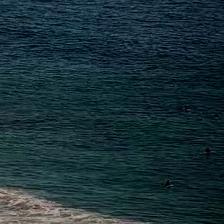surfer: (180, 105, 190, 111), (164, 180, 171, 187), (212, 113, 218, 118), (204, 148, 210, 152)
